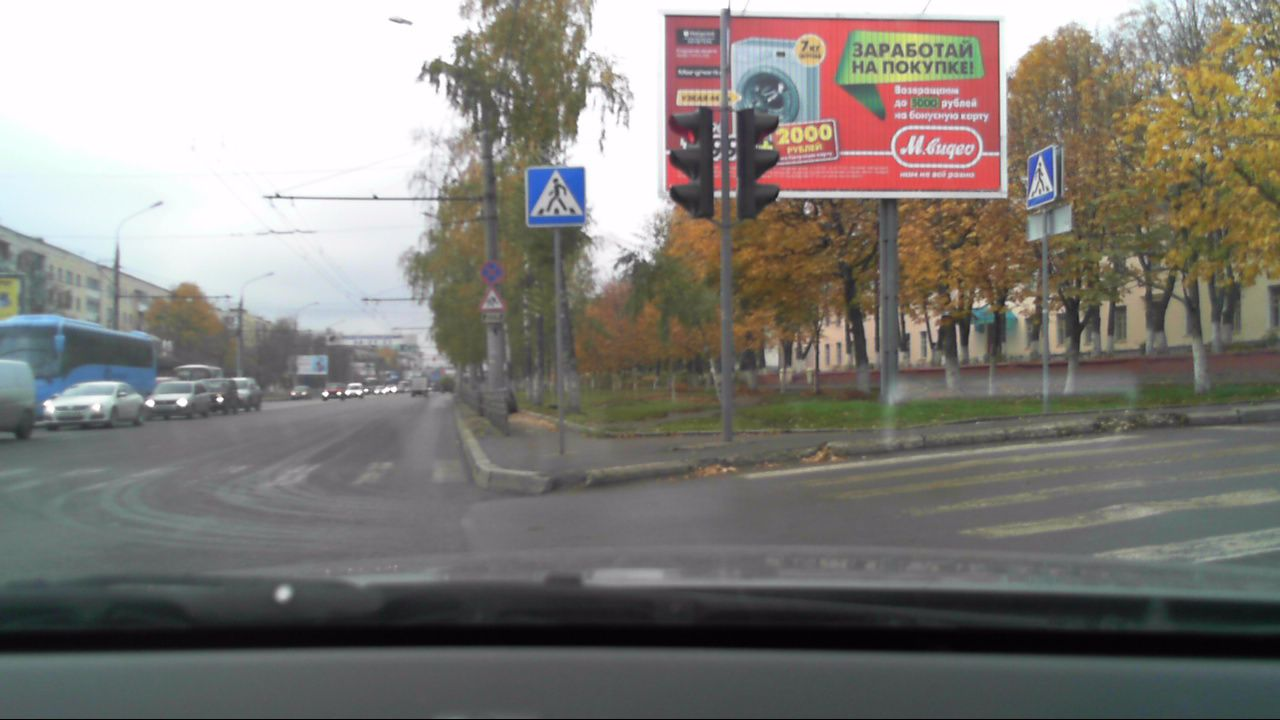No Parking: (478, 255, 506, 284)
